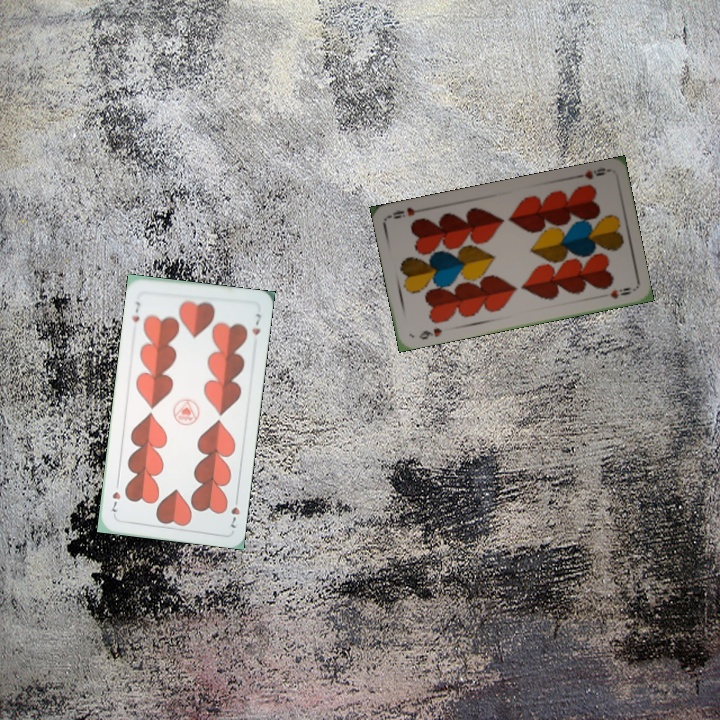H7: (227, 492, 242, 530), (128, 298, 143, 325)
H9: (571, 164, 611, 182), (415, 324, 445, 342)
